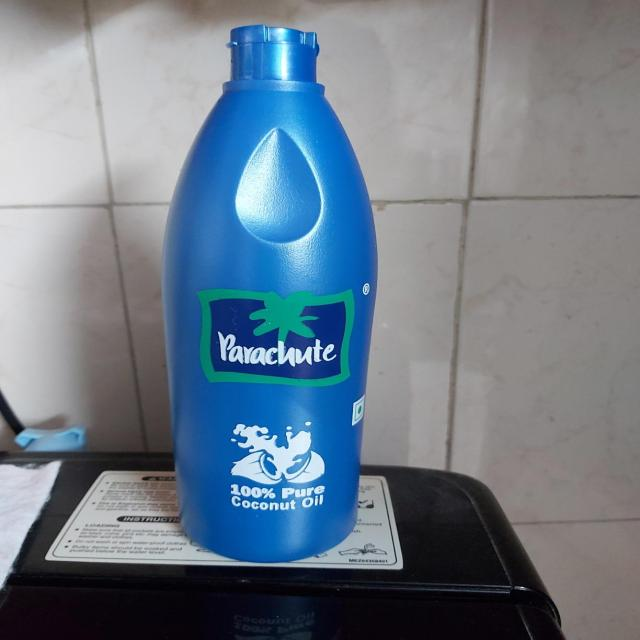parachute_oil: (136, 24, 386, 560)
